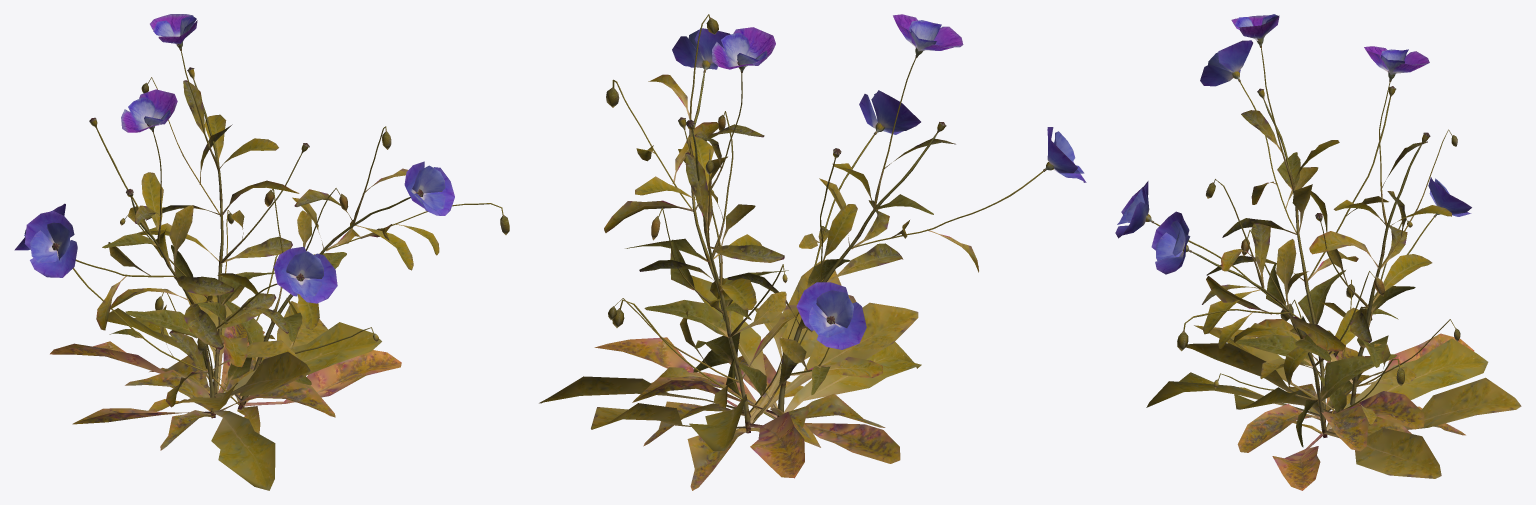
Rendered from Poppy_bush_short_purple.glb.
3 renders of one model, left to right at view 1: azimuth 30°, elevation 25°; view 2: azimuth 150°, elevation 25°; view 3: azimuth 270°, elevation 25°, orthographic. The views are drawn at different scales.
Visible parts, largest first — view 1: bush jr; view 2: bush jr; view 3: bush jr.
Part boxes in pixels (x1,y1,x2,y2): bush jr: (14,14,509,490); bush jr: (539,14,1086,490); bush jr: (1115,14,1521,490).
Bounding box in the file's own units: 4.09 × 3.29 × 3.16.
1 material, 1 textured.
